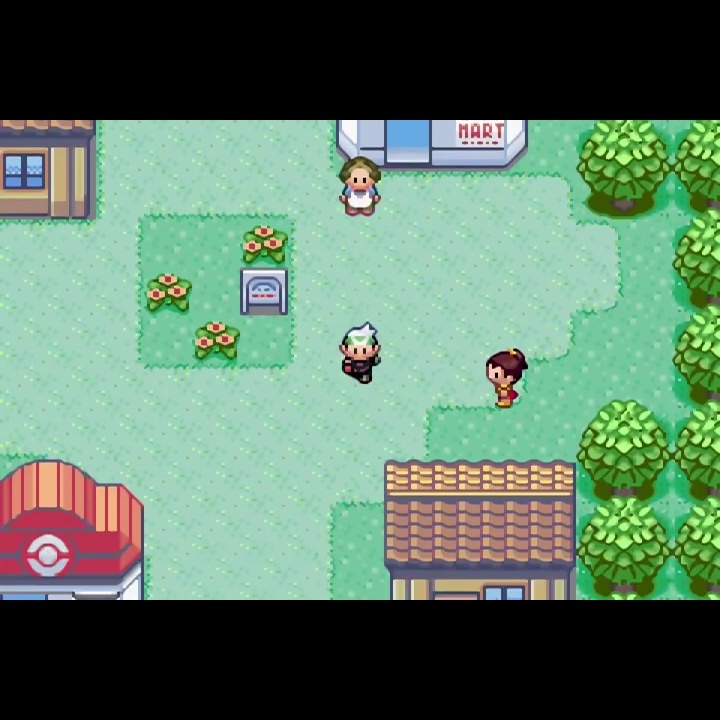house: (380, 454, 578, 600), (1, 119, 99, 224)
npc: (337, 320, 385, 389), (483, 343, 531, 410), (336, 155, 384, 219)
pokecen: (1, 455, 151, 600)
pokemart: (335, 120, 530, 174)
wall: (578, 496, 673, 600), (577, 397, 672, 497), (577, 121, 672, 220), (671, 208, 720, 304), (674, 397, 720, 497), (675, 498, 720, 600), (673, 302, 720, 398), (674, 119, 720, 209)
